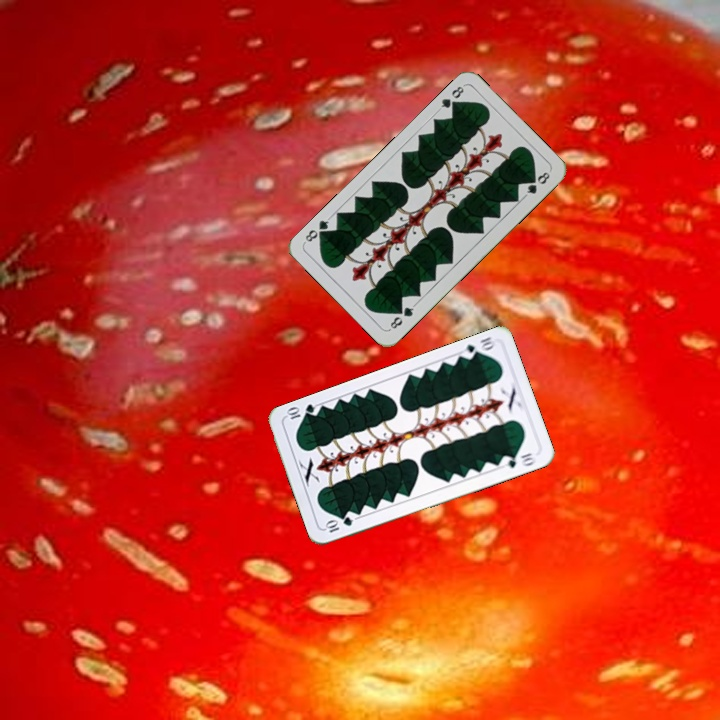G10: (457, 333, 498, 362), (321, 513, 355, 535)
G8: (384, 300, 418, 332), (434, 82, 466, 113)
